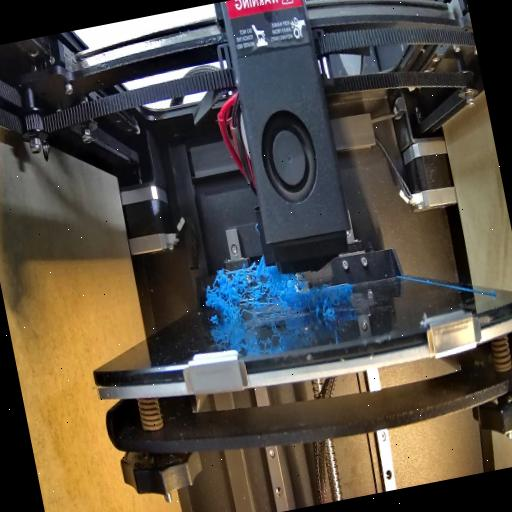spaghetti: (202, 258, 300, 324), (303, 272, 348, 327)
